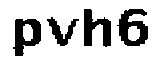6: (118, 7, 151, 48)
h: (81, 4, 115, 51)
p: (12, 15, 43, 60)
v: (46, 14, 78, 49)
